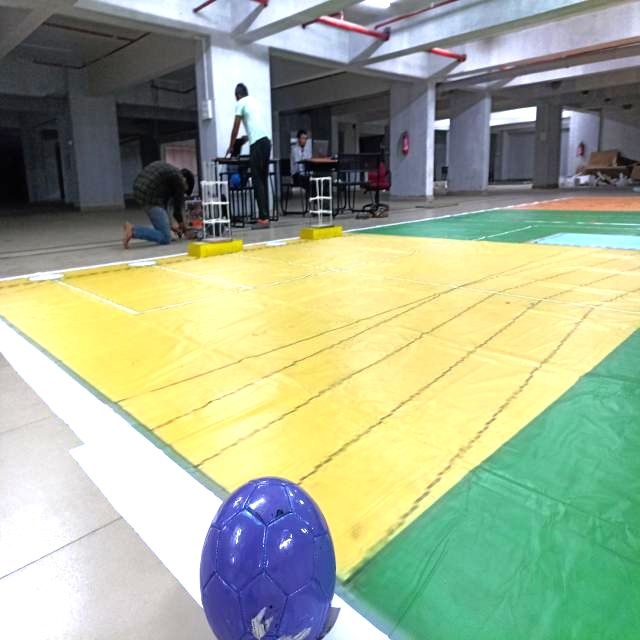purple_ball: (197, 476, 343, 640)
silo: (198, 171, 240, 252), (305, 168, 337, 231)
